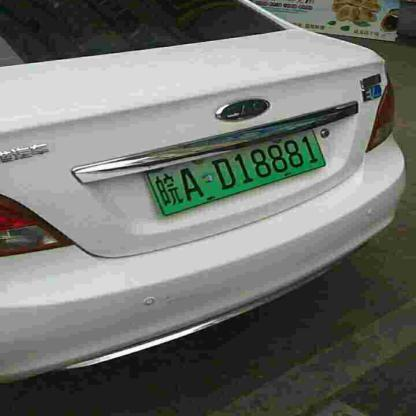lp: (147, 130, 325, 214)
